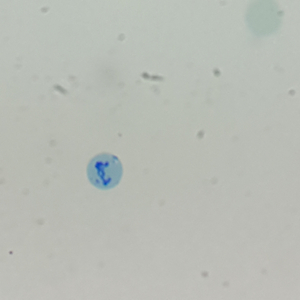aggregate reticulocyte: (85, 151, 124, 191)
erythrocyte: (243, 1, 285, 39)
